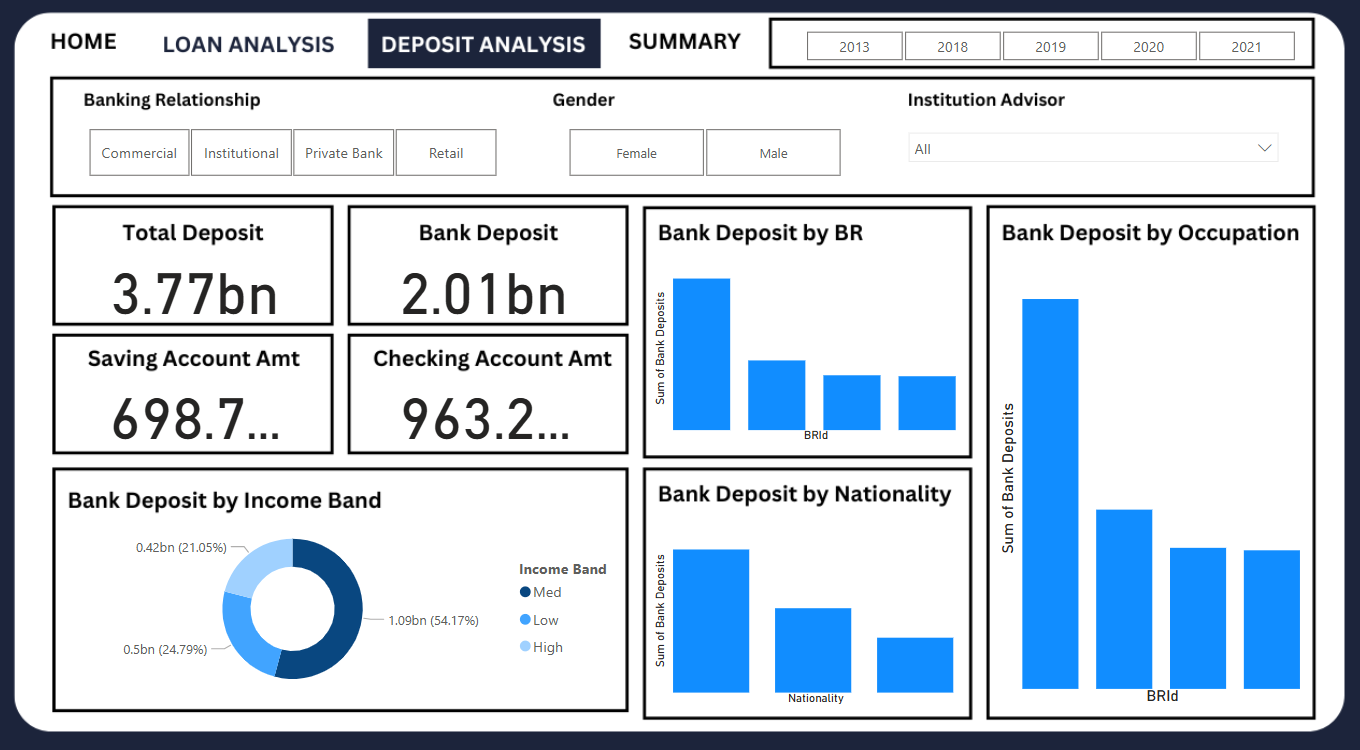

This screenshot's page, from the dashboard's own definition file:
{"tool":"powerbi","page":{"name":"Deposit Analysis","canvas":[1280,720],"ordinal":3},"visuals":[{"type":"slicer","fields":{"Values":["banking_case customer.Year of Joining"]},"box":[733.3,32.2,504.1,34.9],"z":0},{"type":"actionButton","box":[36.4,31.7,99.7,39.6],"z":1000},{"type":"actionButton","box":[348.2,31.7,221.6,39.6],"z":2000},{"type":"actionButton","box":[587.1,31.7,123.4,39.6],"z":3000},{"type":"card","fields":{"Values":["banking_case customer.Total Deposit"]},"box":[100.9,243.7,179.5,65.5],"z":4000},{"type":"card","fields":{"Values":["Sum(banking_case customer.Bank Deposits)"]},"box":[369.5,243.7,179.5,65.5],"z":5000},{"type":"card","fields":{"Values":["Sum(banking_case customer.Saving Accounts)"]},"box":[100.9,360.4,179.5,65.5],"z":6000},{"type":"card","fields":{"Values":["Sum(banking_case customer.Checking Accounts)"]},"box":[370.8,360.4,179.5,65.5],"z":7000},{"type":"donutChart","fields":{"Category":["banking_case customer.Income Band"],"Y":["Sum(banking_case customer.Bank Deposits)"]},"box":[66.8,488.8,530.7,176.9],"z":8000},{"type":"clusteredColumnChart","fields":{"Category":["banking_case customer.BRId"],"Y":["Sum(banking_case customer.Bank Deposits)"]},"box":[613.3,243.7,293.5,182.1],"z":9000},{"type":"clusteredColumnChart","fields":{"Category":["banking_case customer.Nationality"],"Y":["Sum(banking_case customer.Bank Deposits)"]},"box":[613.3,488.8,293.5,182.1],"z":10000},{"type":"slicer","fields":{"Values":["banking_case customer.BRId"]},"box":[66.8,123.2,428.5,57.7],"z":11000},{"type":"slicer","fields":{"Values":["banking_case customer.GenderId"]},"box":[512.4,123.2,302.7,57.7],"z":12000},{"type":"slicer","fields":{"Values":["banking_case customer.IAId"]},"box":[843.9,123.2,364.3,57.7],"z":13000},{"type":"clusteredColumnChart","fields":{"Category":["banking_case customer.BRId"],"Y":["Sum(banking_case customer.Bank Deposits)"]},"box":[933.7,245.3,292.8,425.7],"z":14000},{"type":"actionButton","box":[136.3,27.5,196.6,40.6],"z":15000}]}

Visuals, with their boxes in screenshot pixels (x1, y1, x2, y2), scaled from the page's 1280x720 canvas onto the 1360x750 screenshot:
slicer - banking_case customer.Year of Joining: (779,34,1315,70)
actionButton: (39,33,145,74)
actionButton: (370,33,605,74)
actionButton: (624,33,755,74)
card - banking_case customer.Total Deposit: (107,254,298,322)
card - Sum(banking_case customer.Bank Deposits): (393,254,583,322)
card - Sum(banking_case customer.Saving Accounts): (107,375,298,444)
card - Sum(banking_case customer.Checking Accounts): (394,375,585,444)
donutChart - banking_case customer.Income Band x Sum(banking_case customer.Bank Deposits): (71,509,635,693)
clusteredColumnChart - banking_case customer.BRId x Sum(banking_case customer.Bank Deposits): (652,254,963,444)
clusteredColumnChart - banking_case customer.Nationality x Sum(banking_case customer.Bank Deposits): (652,509,963,699)
slicer - banking_case customer.BRId: (71,128,526,188)
slicer - banking_case customer.GenderId: (544,128,866,188)
slicer - banking_case customer.IAId: (897,128,1284,188)
clusteredColumnChart - banking_case customer.BRId x Sum(banking_case customer.Bank Deposits): (992,256,1303,699)
actionButton: (145,29,354,71)
